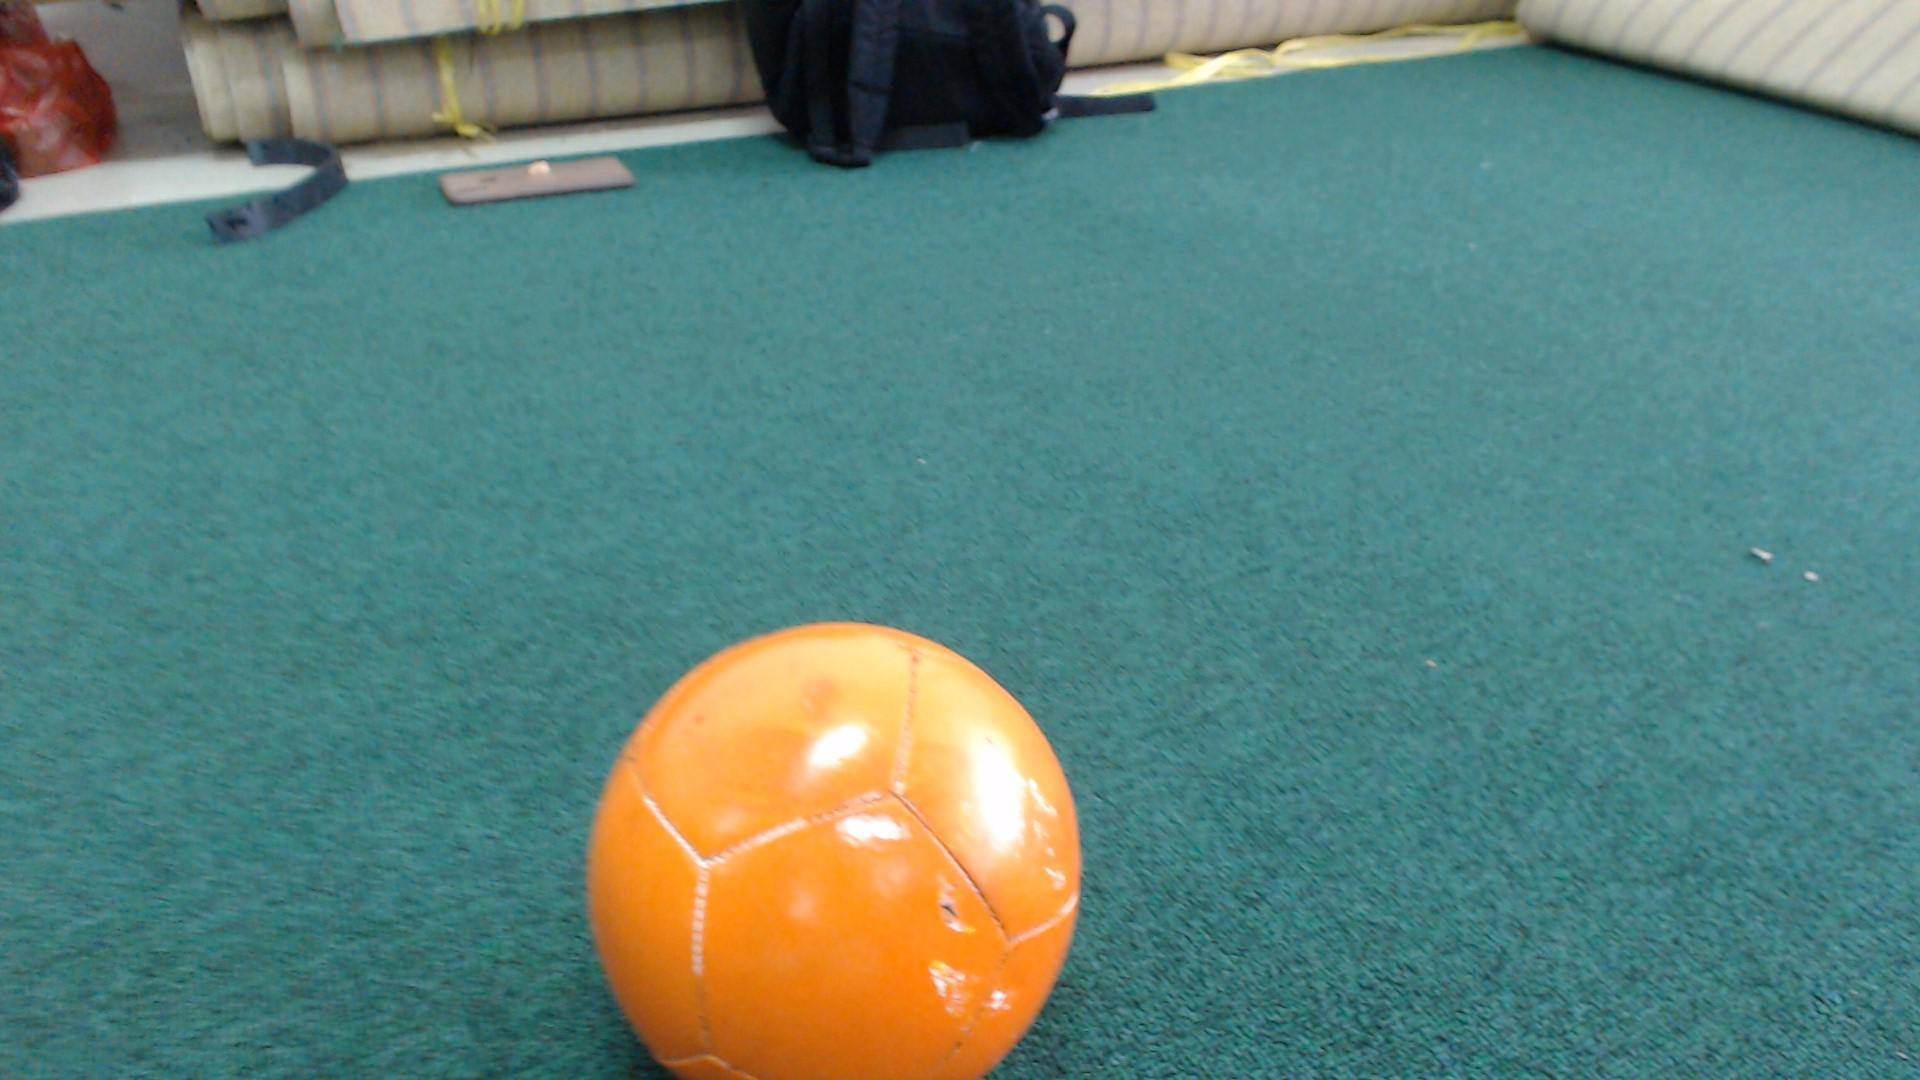bola: (545, 605, 1124, 1079)
